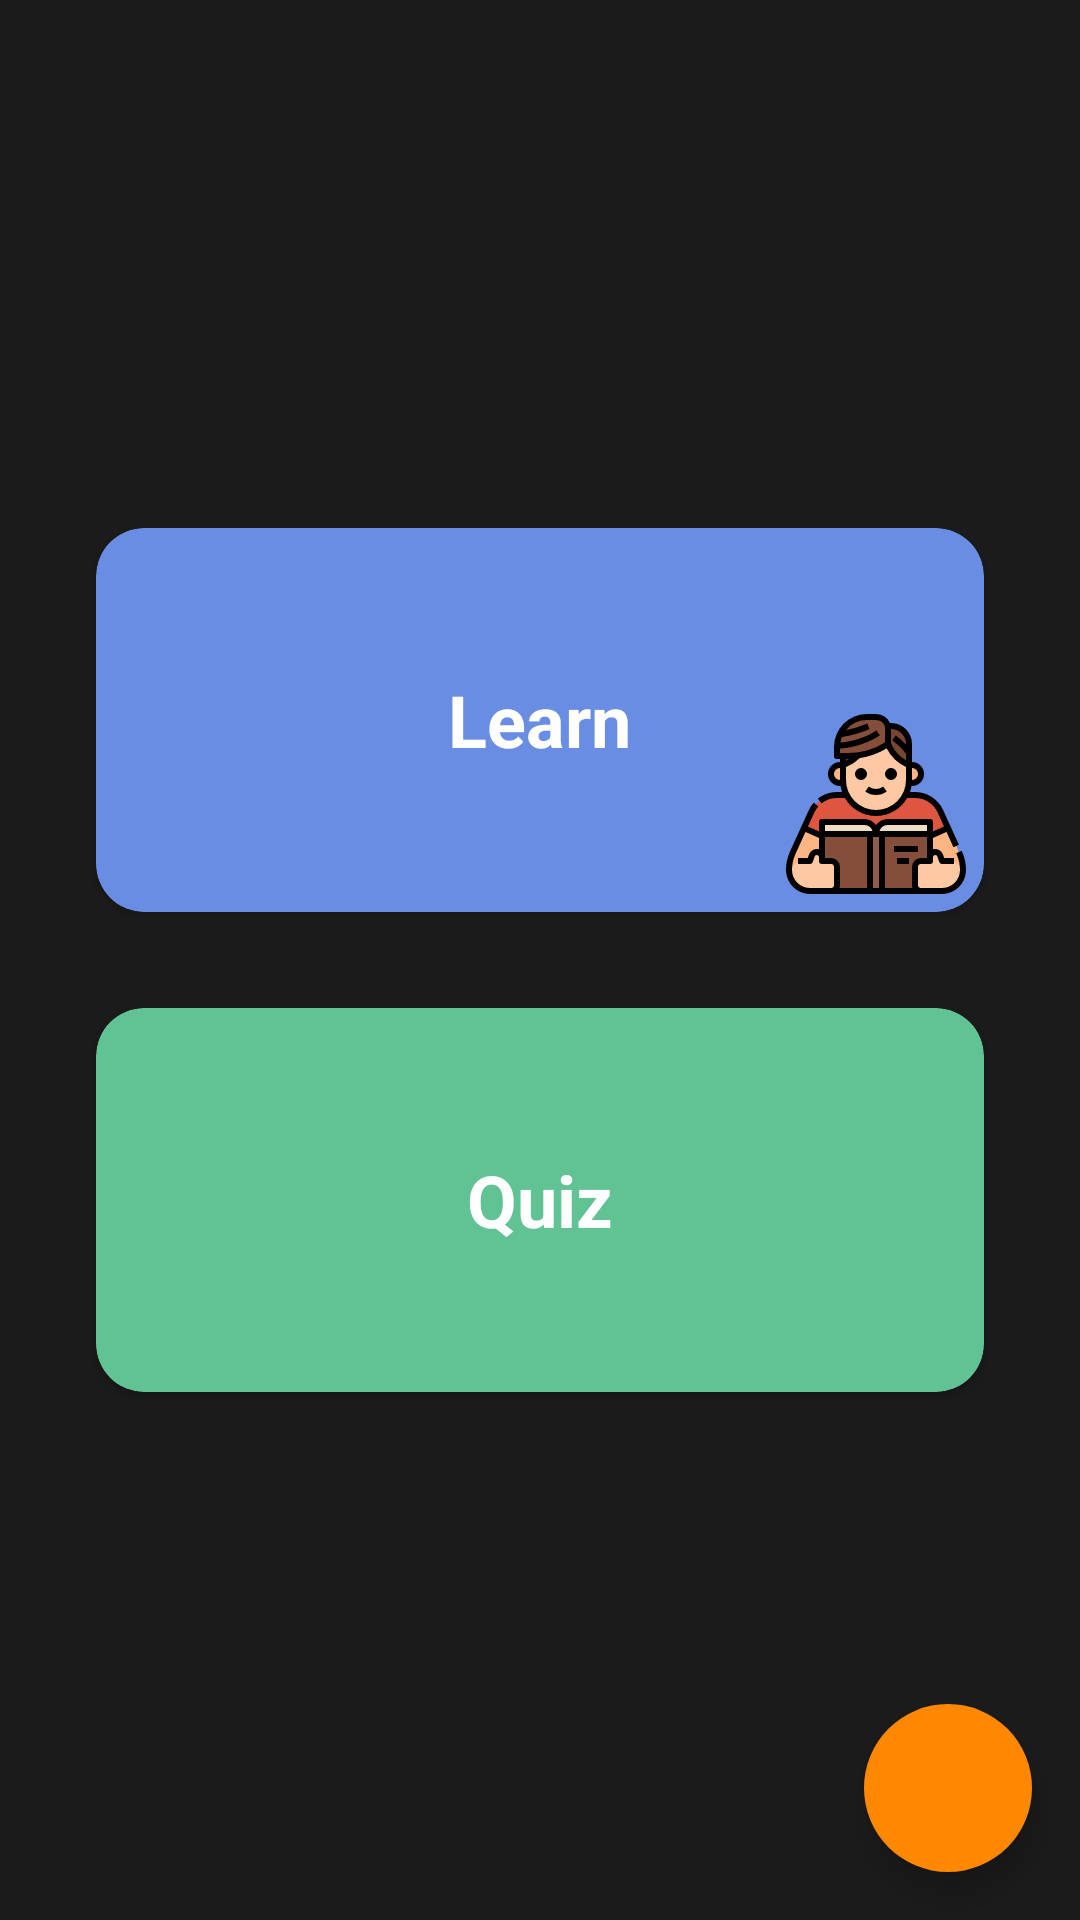

Point at icon controls on the screen. Image size 1080×1920, points as [x,y].
reading: [876,804]
